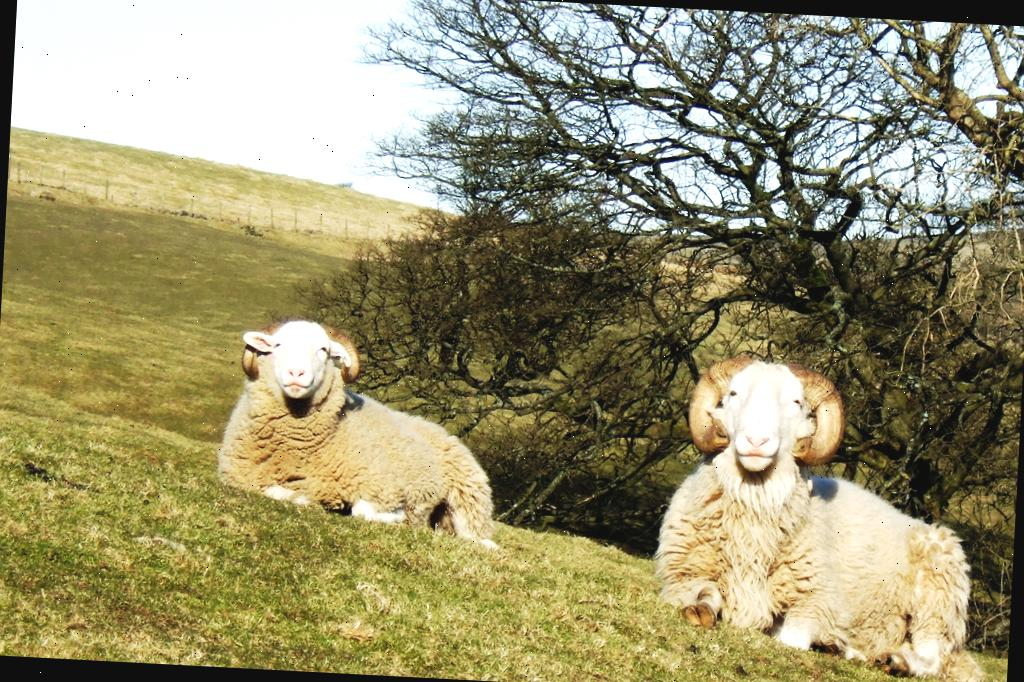Sheep: (644, 354, 1000, 682), (213, 309, 515, 540)
